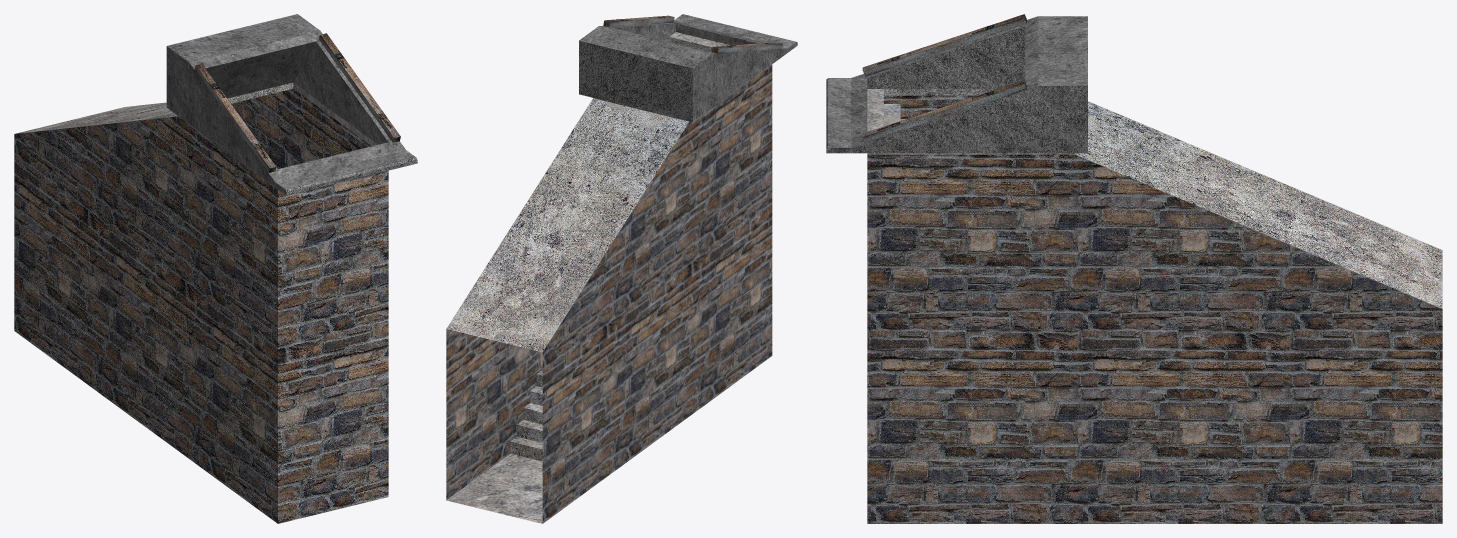
The model's file is cellar_stairway.glb.
3 renders of one model, left to right at view 1: azimuth 30°, elevation 25°; view 2: azimuth 150°, elevation 25°; view 3: azimuth 270°, elevation 25°, orthographic. The views are drawn at different scales.
Parts seen in each view (by area): view 1: cellar_stairway.001; view 2: cellar_stairway.001; view 3: cellar_stairway.001.
Part boxes in pixels (x1,y1,x2,y2): cellar_stairway.001: (14, 14, 417, 523); cellar_stairway.001: (446, 14, 797, 523); cellar_stairway.001: (826, 14, 1442, 523).
Size of the model in its own units: 1.99 by 5.92 by 7.43.
4 materials, 4 textured.
